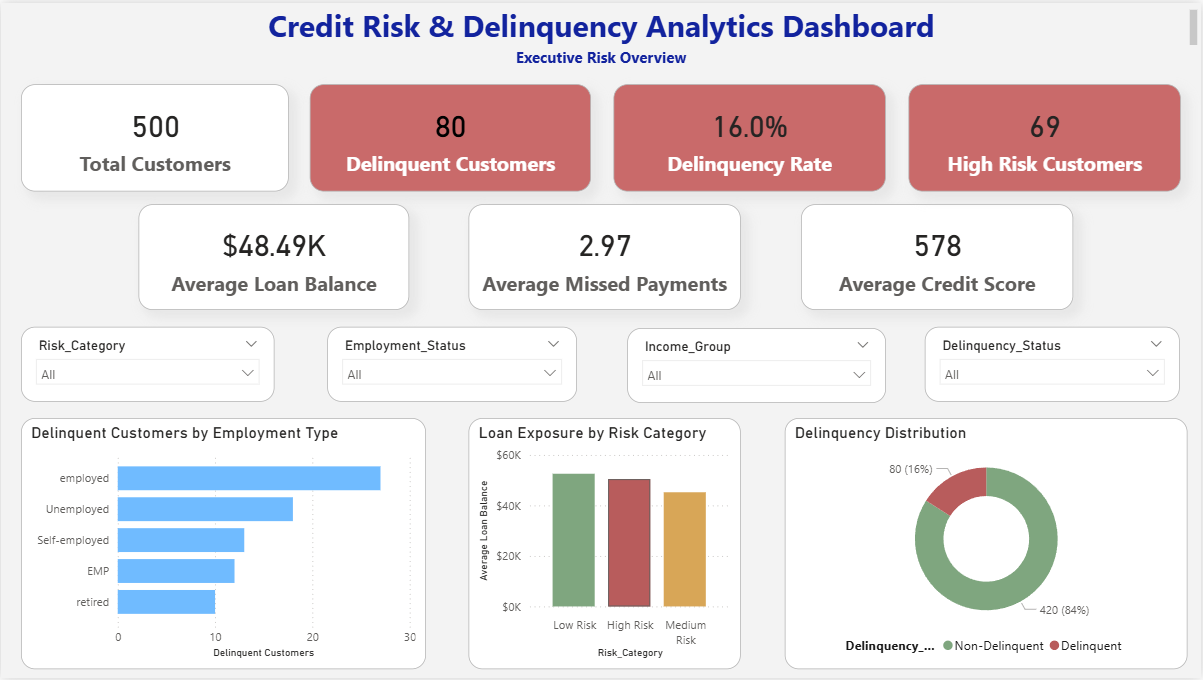

The page's visual inventory and layout, read from the dashboard file:
{"tool":"powerbi","page":{"name":"Page 1","canvas":[1280,720],"ordinal":0},"visuals":[{"type":"textbox","box":[7.3,0,1273,50.1],"z":0},{"type":"card","fields":{"Values":["Cleaned_Credit_Risk_Data.Total Customers"]},"box":[21.1,87.3,285.9,114.1],"z":1000},{"type":"card","fields":{"Values":["Cleaned_Credit_Risk_Data.Total Delinquent Customers"]},"box":[329.6,87.3,300,114.1],"z":2000},{"type":"card","fields":{"Values":["Cleaned_Credit_Risk_Data.Delinquency Rate"]},"box":[653.5,87.3,290.1,114.1],"z":3000},{"type":"card","fields":{"Values":["Cleaned_Credit_Risk_Data.Average Credit Score"]},"box":[853.5,214.1,290.1,112.7],"z":4000},{"type":"card","fields":{"Values":["Cleaned_Credit_Risk_Data.Average Loan Balance"]},"box":[146.5,214.1,288.7,112.7],"z":5000},{"type":"card","fields":{"Values":["Cleaned_Credit_Risk_Data.Average Missed Payments"]},"box":[498.6,214.1,290.1,112.7],"z":6000},{"type":"card","fields":{"Values":["Cleaned_Credit_Risk_Data.High Risk Customers"]},"box":[967.6,87.3,290.1,114.1],"z":7000},{"type":"textbox","box":[0,40.8,1280.3,32.4],"z":8000},{"type":"donutChart","title":"Delinquency Distribution","fields":{"Category":["Cleaned_Credit_Risk_Data.Delinquency_Status"],"Y":["CountNonNull(Cleaned_Credit_Risk_Data.Customer_ID)"]},"box":[836.6,442.3,429.6,267.6],"z":9000},{"type":"clusteredBarChart","title":"Delinquent Customers by Employment Type","fields":{"Category":["Cleaned_Credit_Risk_Data.Employment_Status"],"Y":["Cleaned_Credit_Risk_Data.Total Delinquent Customers"]},"box":[21.1,442.3,432.4,267.6],"z":10000},{"type":"clusteredColumnChart","title":"Loan Exposure by Risk Category","fields":{"Category":["Cleaned_Credit_Risk_Data.Risk_Category"],"Y":["Cleaned_Credit_Risk_Data.Average Loan Balance"]},"box":[498.6,442.3,290.1,267.6],"z":11000},{"type":"slicer","fields":{"Values":["Cleaned_Credit_Risk_Data.Risk_Category"]},"box":[21.1,345.1,270.4,80.3],"z":12000},{"type":"slicer","fields":{"Values":["Cleaned_Credit_Risk_Data.Employment_Status"]},"box":[347.9,345.1,266.2,80.3],"z":13000},{"type":"slicer","fields":{"Values":["Cleaned_Credit_Risk_Data.Income_Group"]},"box":[667.6,346.5,276.1,80.3],"z":14000},{"type":"slicer","fields":{"Values":["Cleaned_Credit_Risk_Data.Delinquency_Status"]},"box":[985.9,345.1,271.8,80.3],"z":15000}]}

Visuals, with their boxes in screenshot pixels (x1, y1, x2, y2), scaled from the page's 1280x720 canvas onto the 1203x680 screenshot:
textbox: (x1=7, y1=0, x2=1202, y2=47)
card - Cleaned_Credit_Risk_Data.Total Customers: (x1=20, y1=82, x2=289, y2=190)
card - Cleaned_Credit_Risk_Data.Total Delinquent Customers: (x1=310, y1=82, x2=592, y2=190)
card - Cleaned_Credit_Risk_Data.Delinquency Rate: (x1=614, y1=82, x2=887, y2=190)
card - Cleaned_Credit_Risk_Data.Average Credit Score: (x1=802, y1=202, x2=1075, y2=309)
card - Cleaned_Credit_Risk_Data.Average Loan Balance: (x1=138, y1=202, x2=409, y2=309)
card - Cleaned_Credit_Risk_Data.Average Missed Payments: (x1=469, y1=202, x2=741, y2=309)
card - Cleaned_Credit_Risk_Data.High Risk Customers: (x1=909, y1=82, x2=1182, y2=190)
textbox: (x1=0, y1=39, x2=1202, y2=69)
"Delinquency Distribution" donutChart: (x1=786, y1=418, x2=1190, y2=670)
"Delinquent Customers by Employment Type" clusteredBarChart: (x1=20, y1=418, x2=426, y2=670)
"Loan Exposure by Risk Category" clusteredColumnChart: (x1=469, y1=418, x2=741, y2=670)
slicer - Cleaned_Credit_Risk_Data.Risk_Category: (x1=20, y1=326, x2=274, y2=402)
slicer - Cleaned_Credit_Risk_Data.Employment_Status: (x1=327, y1=326, x2=577, y2=402)
slicer - Cleaned_Credit_Risk_Data.Income_Group: (x1=627, y1=327, x2=887, y2=403)
slicer - Cleaned_Credit_Risk_Data.Delinquency_Status: (x1=927, y1=326, x2=1182, y2=402)
